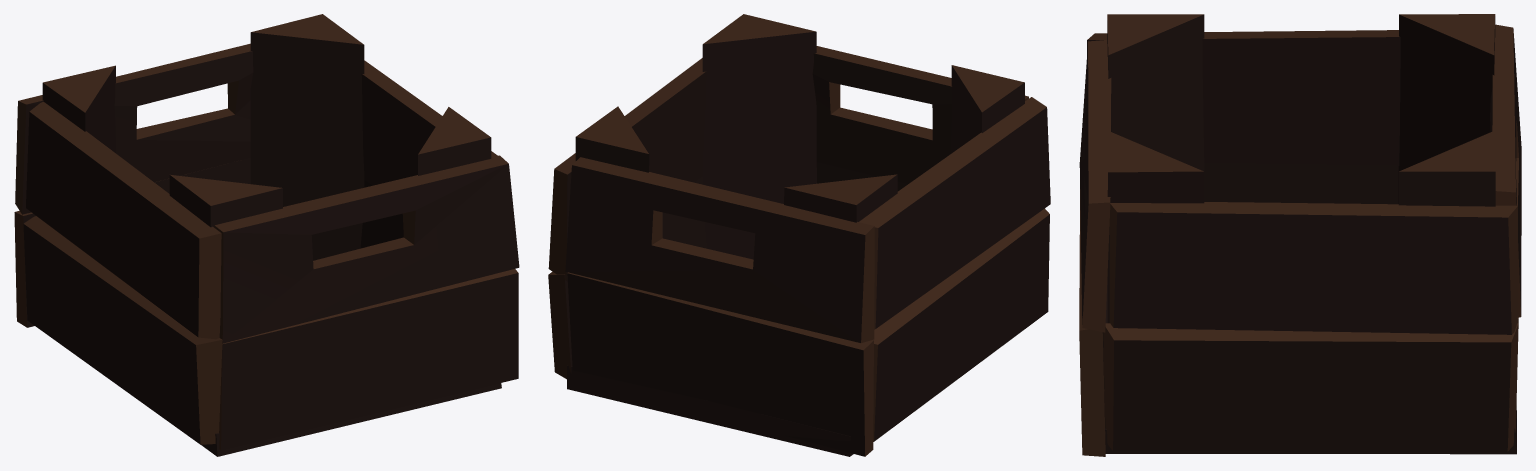
The model's file is Crate_2_3.fbx.
3 renders of one model, left to right at view 1: azimuth 30°, elevation 25°; view 2: azimuth 150°, elevation 25°; view 3: azimuth 270°, elevation 25°, orthographic. The views are drawn at different scales.
Parts seen in each view (by area): view 1: Crate_2_3; view 2: Crate_2_3; view 3: Crate_2_3.
Part boxes in pixels (x1,y1,x2,y2): Crate_2_3: (14, 14, 519, 456); Crate_2_3: (548, 14, 1050, 456); Crate_2_3: (1079, 14, 1521, 456).
Bounding box in the file's own units: 15.75 × 11.5 × 16.29.
